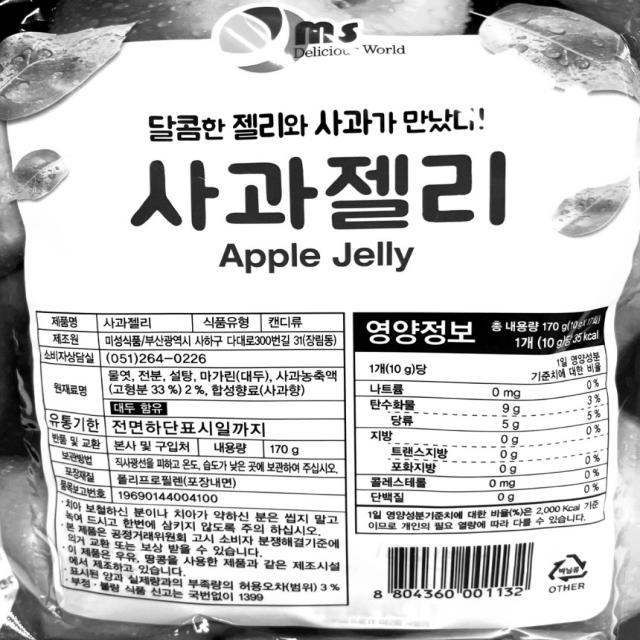Nutrition Label: (354, 303, 622, 525)
